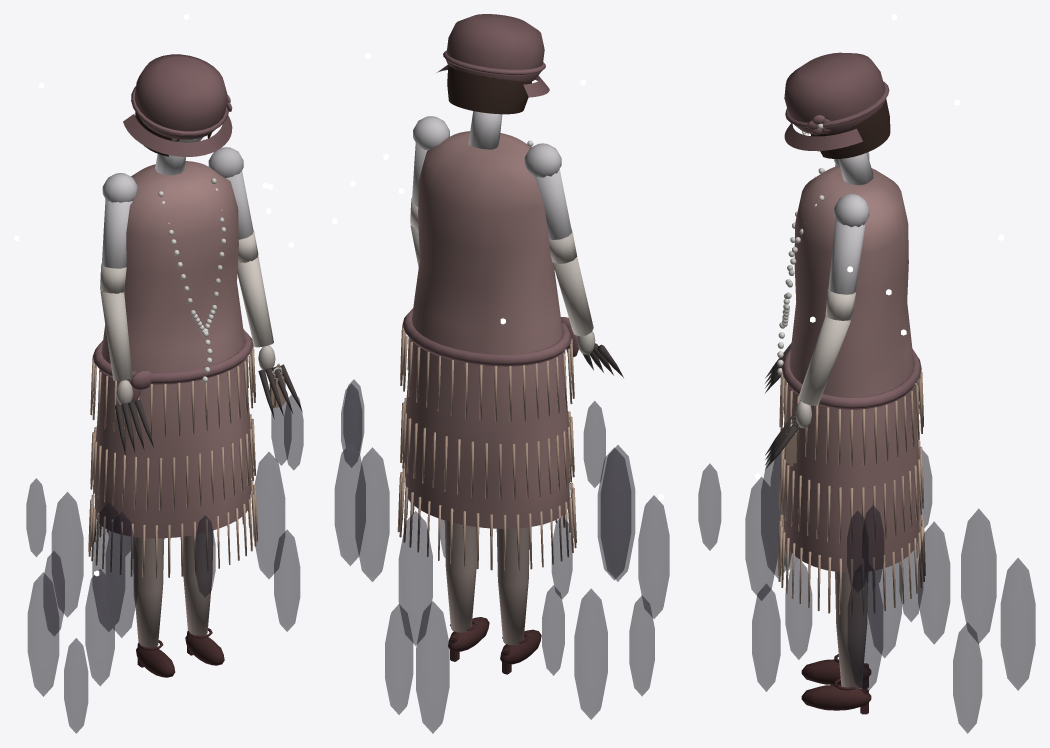
The model's file is last_passenger.glb.
The picture shows the model from 3 angles, left to right: view 1: azimuth 30°, elevation 25°; view 2: azimuth 150°, elevation 25°; view 3: azimuth 270°, elevation 25°; orthographic projection. The views are drawn at different scales.
Parts seen in each view (by area): view 1: Dress, Passenger_Root_HSmoke, Passenger_Root_RoseGoldFringe, Head_ClocheFelt, ArmA_OperaGlove, LegLegA, ArmB_OperaGlove, LegLegB, ArmA_PaleSkin, Passenger_Root_DustyMauve, ArmB_PaleSkin, Passenger_Root_Pearl (+6 smaller); view 2: Dress, Passenger_Root_HSmoke, Tail_RoseGoldFringe, Head_ClocheFelt, Passenger_Root_RoseGoldFringe, LegLegA, LegLegB, Head_BobHair, ArmA_OperaGlove, Passenger_Root_DustyMauve, ArmA_PaleSkin, ArmB_PaleSkin (+5 smaller); view 3: Dress, Passenger_Root_HSmoke, Head_ClocheFelt, Passenger_Root_RoseGoldFringe, ArmB_OperaGlove, LegLegB, Tail_RoseGoldFringe, ArmB_PaleSkin, Passenger_Root_DustyMauve, Head_BobHair, LegB_TStrapShoe, LegA_TStrapShoe (+4 smaller).
Boxes of the visible parts, <box> form: Dress: <box>94,161,251,538</box>; Passenger_Root_HSmoke: <box>26,391,303,733</box>; Passenger_Root_RoseGoldFringe: <box>88,345,257,577</box>; Head_ClocheFelt: <box>123,54,232,156</box>; ArmA_OperaGlove: <box>100,263,133,404</box>; LegLegA: <box>133,537,164,647</box>; ArmB_OperaGlove: <box>237,231,275,369</box>; LegLegB: <box>183,530,213,635</box>; ArmA_PaleSkin: <box>101,173,137,268</box>; Passenger_Root_DustyMauve: <box>92,329,253,404</box>; ArmB_PaleSkin: <box>208,147,253,239</box>; Passenger_Root_Pearl: <box>158,178,225,382</box>; Dress: <box>404,131,569,528</box>; Passenger_Root_HSmoke: <box>334,379,669,733</box>; Tail_RoseGoldFringe: <box>399,336,532,570</box>; Head_ClocheFelt: <box>437,14,549,97</box>; Passenger_Root_RoseGoldFringe: <box>397,325,576,567</box>; LegLegA: <box>496,527,529,645</box>; LegLegB: <box>444,520,476,632</box>; Head_BobHair: <box>447,65,531,114</box>; ArmA_OperaGlove: <box>549,229,595,354</box>; Passenger_Root_DustyMauve: <box>402,308,578,366</box>; ArmA_PaleSkin: <box>524,143,571,239</box>; ArmB_PaleSkin: <box>412,116,449,206</box>; Dress: <box>783,165,919,572</box>; Passenger_Root_HSmoke: <box>698,449,1035,733</box>; Head_ClocheFelt: <box>784,52,885,150</box>; Passenger_Root_RoseGoldFringe: <box>777,372,888,615</box>; ArmB_OperaGlove: <box>795,289,855,428</box>; LegLegB: <box>835,571,867,690</box>; Tail_RoseGoldFringe: <box>892,369,925,607</box>; ArmB_PaleSkin: <box>828,193,869,294</box>; Passenger_Root_DustyMauve: <box>781,349,921,409</box>; Head_BobHair: <box>811,98,890,158</box>; LegB_TStrapShoe: <box>801,678,871,714</box>; LegA_TStrapShoe: <box>801,654,871,688</box>.
Size of the model in its own units: 0.7516 by 1.7 by 0.7819.
